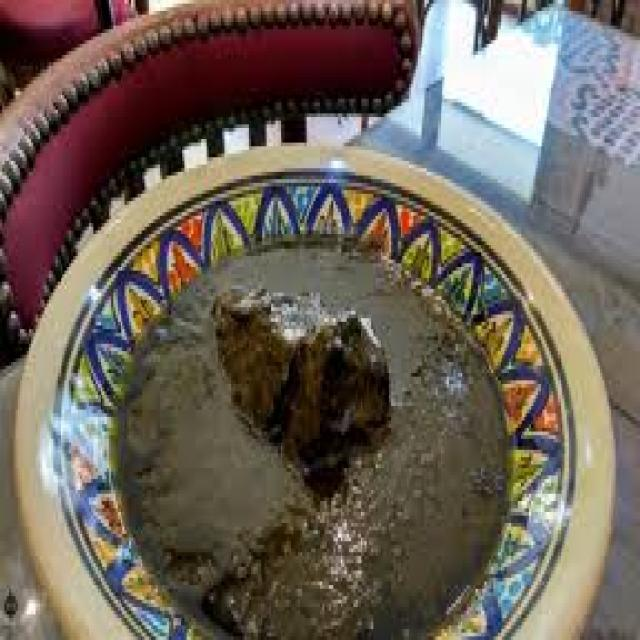Melloukhia: (82, 157, 576, 640)
